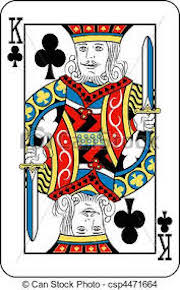KingOfClubs: (2, 1, 180, 277)
